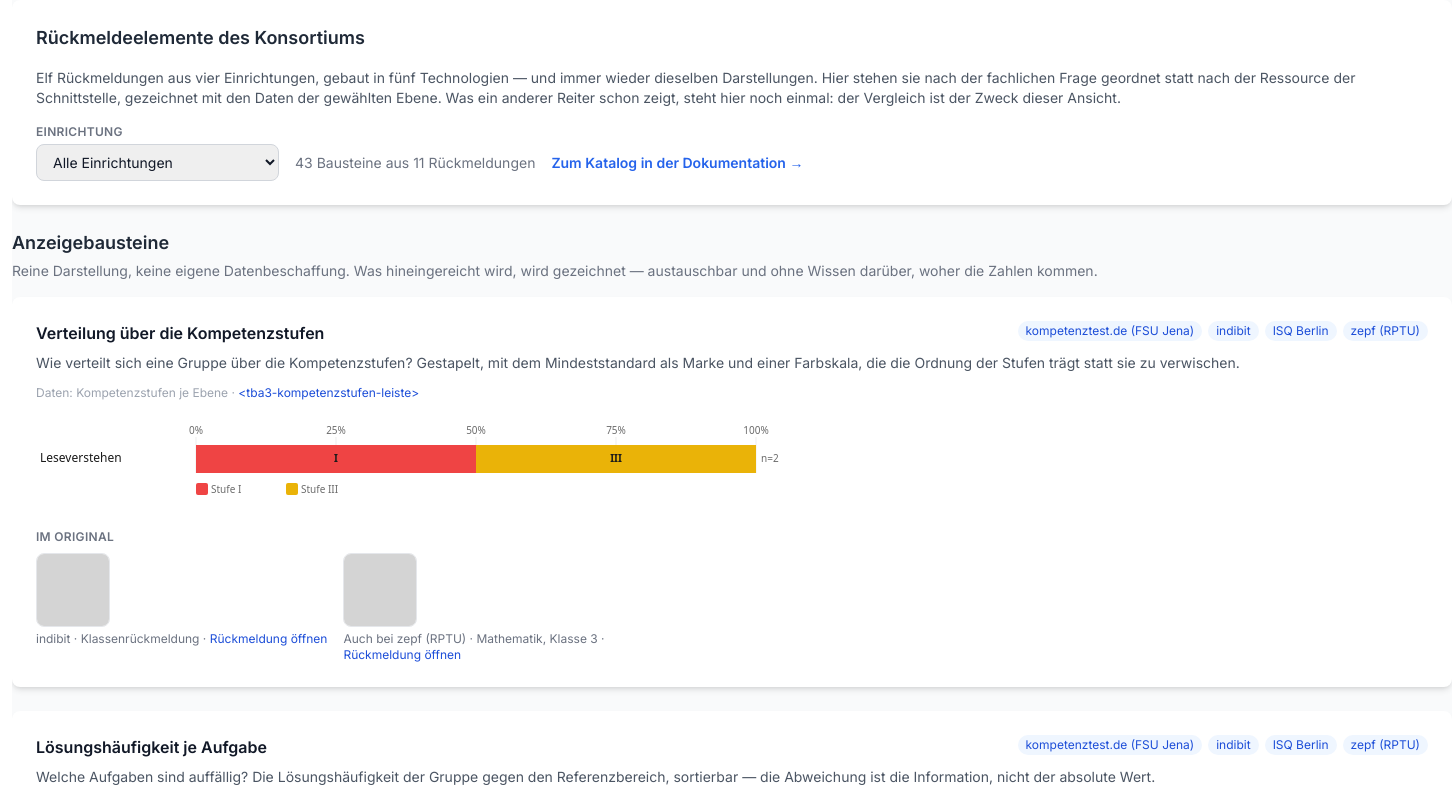
Scenario: Rückmeldeelemente › schränkt den Katalog auf eine Einrichtung ein
The width and height of the screenshot is (1452, 800).
Select "zepf (RPTU)" in the dropdown with test id "elemente-einrichtung" at (158, 162), box [36,144,279,181]
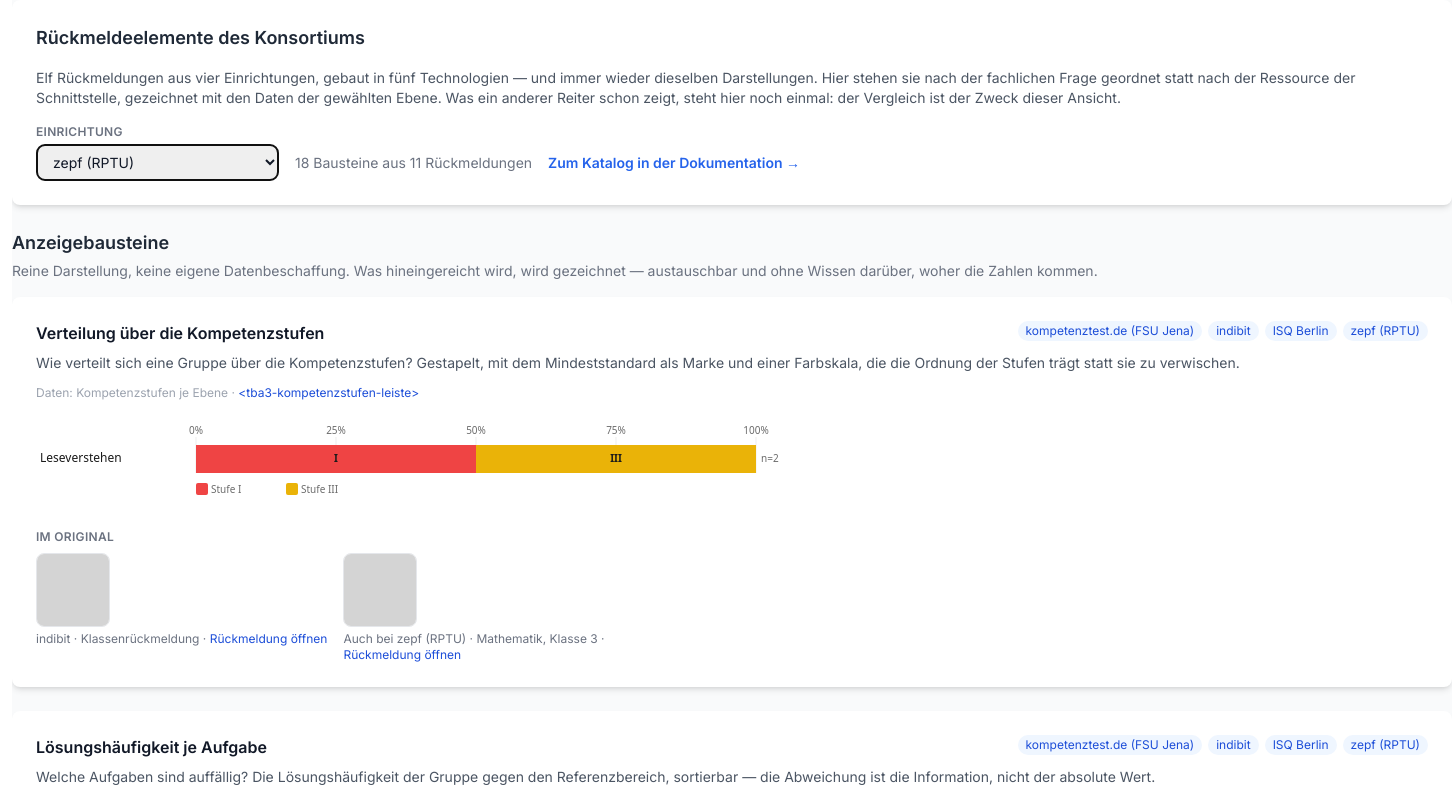
Now the text with test id "elemente-anzahl" shows "18", box [295,154,532,171]
